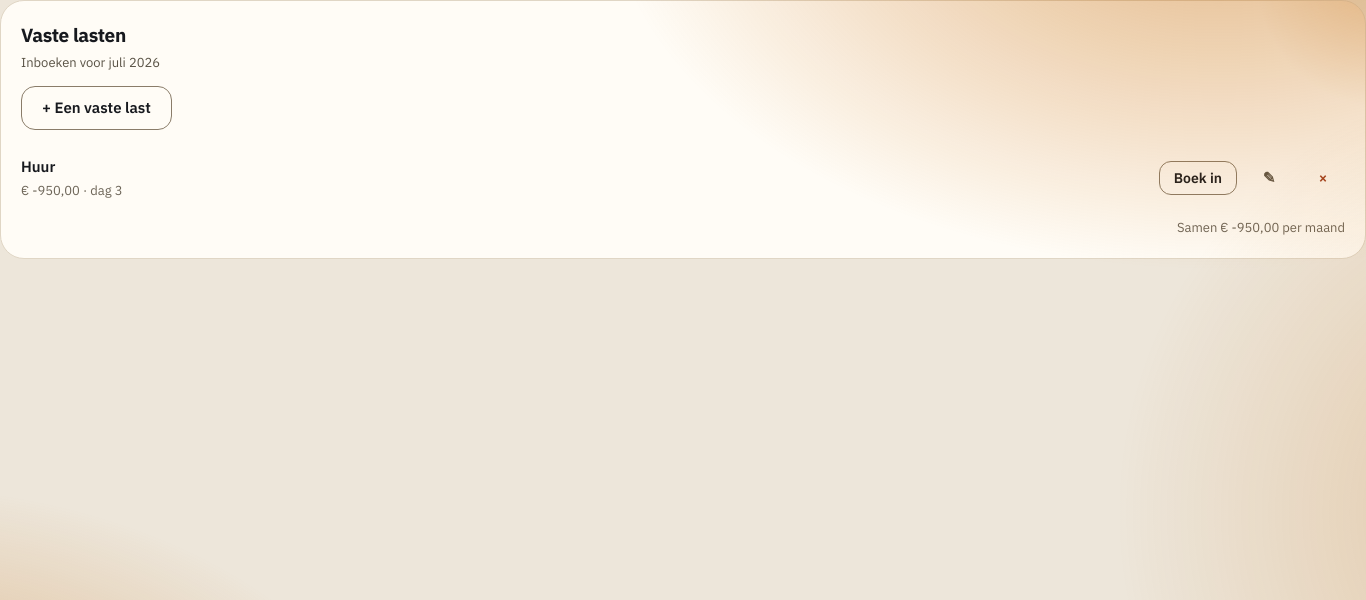
Test: TerugkerendeSectie — het contractformulier › rekent wél met een geldige eigen termijn, in maanden
Click the button "+ Een vaste last": (96, 108) left=21, top=86, right=172, bottom=130
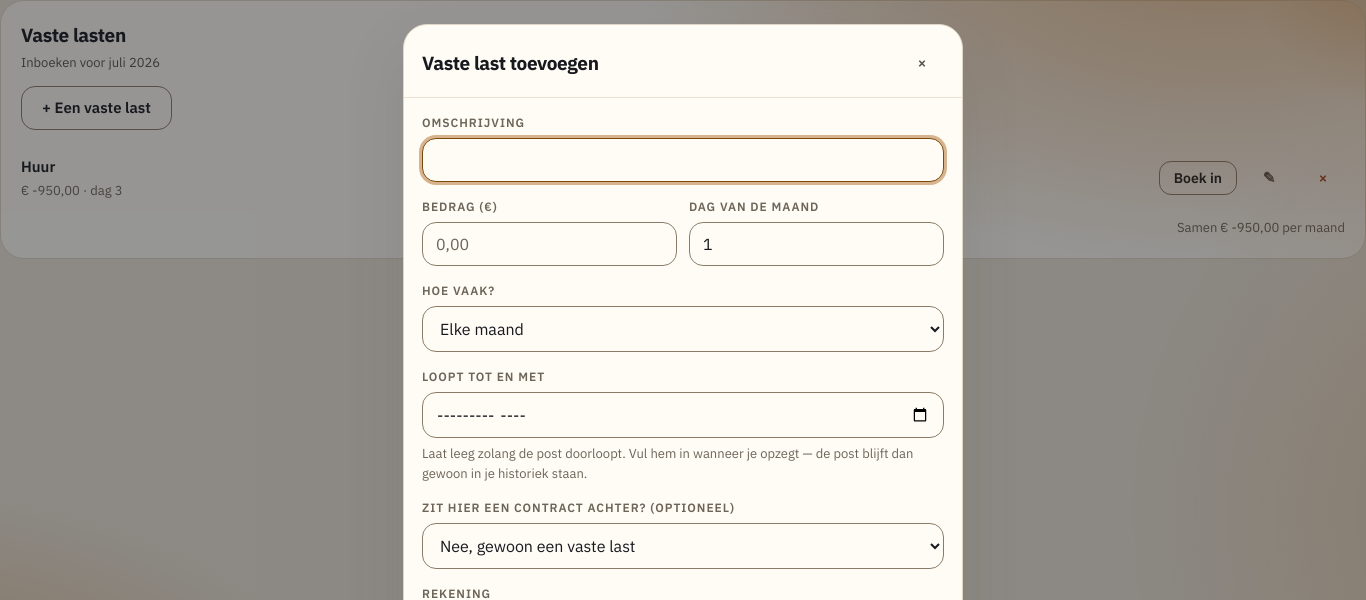
Select "Energie (elektriciteit of gas)" in the dropdown labelled "Zit hier een contract achter? (optioneel)": (683, 546) left=422, top=523, right=944, bottom=569
(page scrolled)
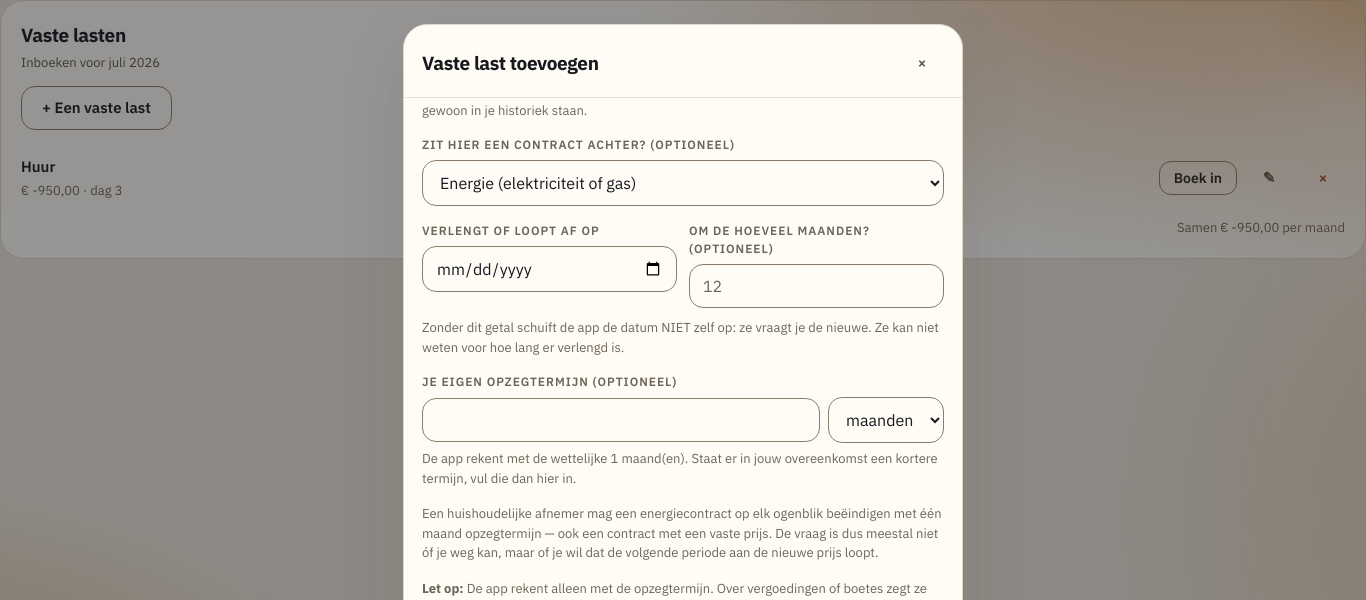
In the field labelled "Je eigen opzegtermijn (optioneel)": (621, 420) left=422, top=398, right=820, bottom=442, type "3"
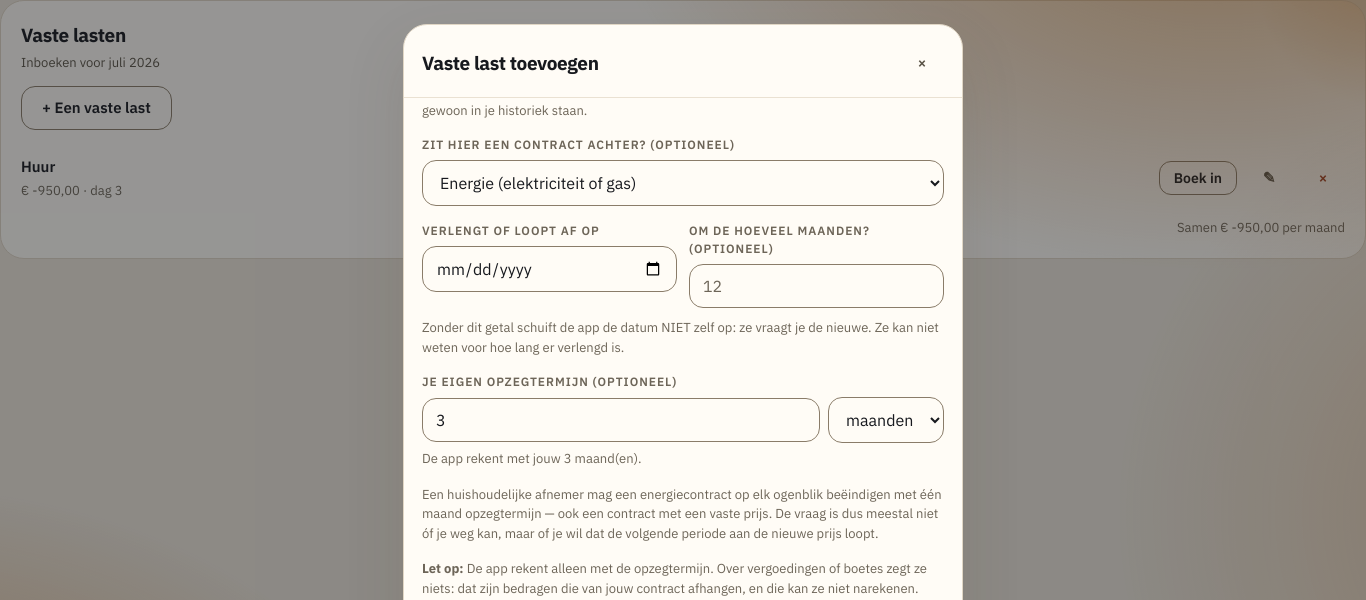
Expected: the text "De app rekent met jouw 3 maand(en)." is shown, left=422, top=450, right=642, bottom=467
